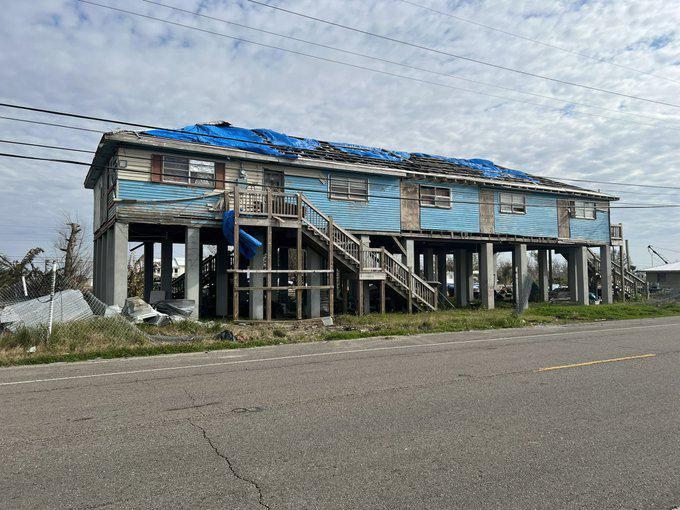major: (82, 80, 658, 334)
